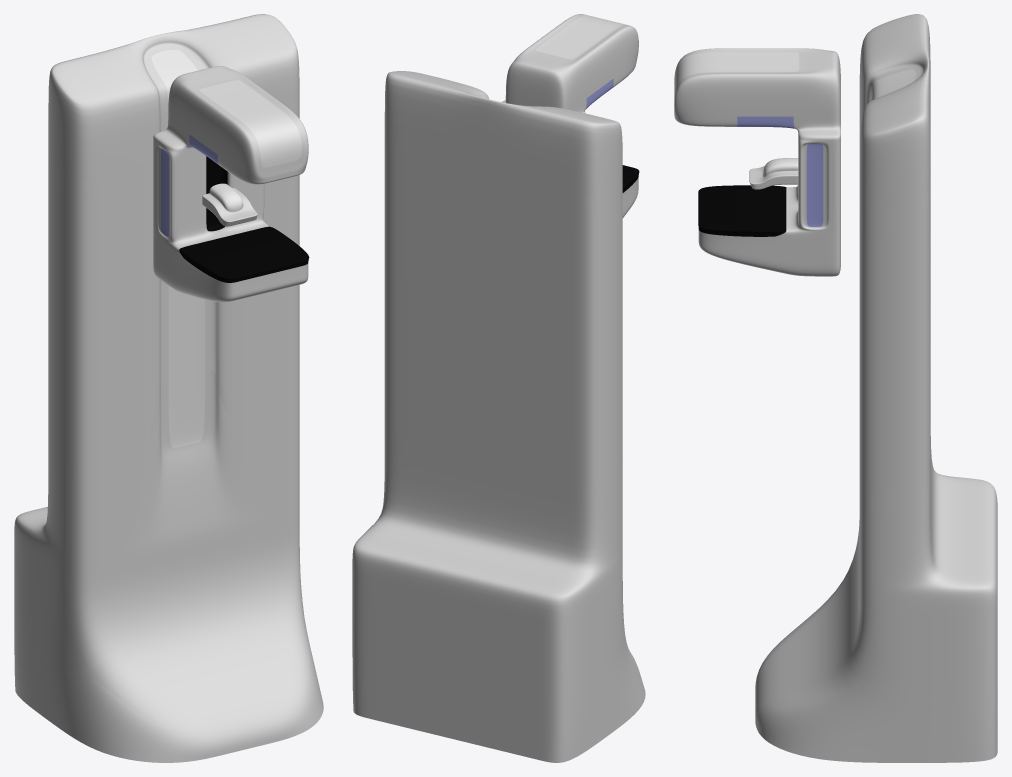
The model's file is mammography.glb.
The picture shows the model from 3 angles, left to right: view 1: azimuth 30°, elevation 25°; view 2: azimuth 150°, elevation 25°; view 3: azimuth 270°, elevation 25°; orthographic projection. The views are drawn at different scales.
Visible parts, largest first — view 1: Cube.117_Monitor_0; view 2: Cube.117_Monitor_0; view 3: Cube.117_Monitor_0.
Part boxes in pixels (x1=…): Cube.117_Monitor_0: x1=14, y1=14, x2=323, y2=762; Cube.117_Monitor_0: x1=352, y1=14, x2=645, y2=762; Cube.117_Monitor_0: x1=674, y1=14, x2=997, y2=762.
Bounding box in the file's own units: 0.7419 × 1.96 × 0.8949.
